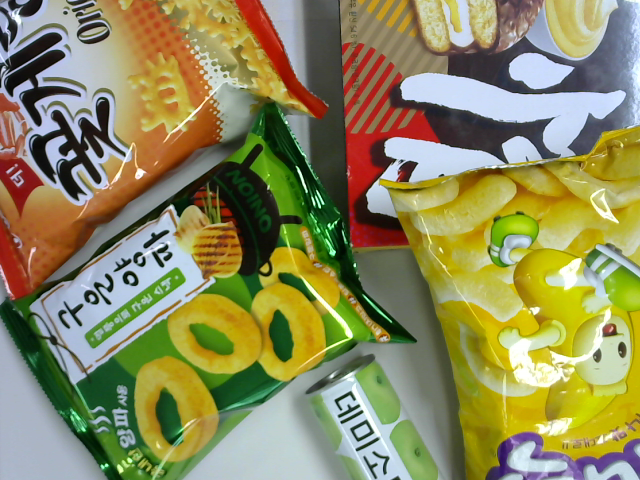Banana_Kick: (379, 120, 640, 478)
Choco_Pie_Banana: (334, 2, 640, 260)
Crabrang: (1, 1, 332, 306)
Demisoda_Apple_Can_250ml: (301, 352, 449, 480)
Grilled_Onions: (1, 101, 416, 477)
